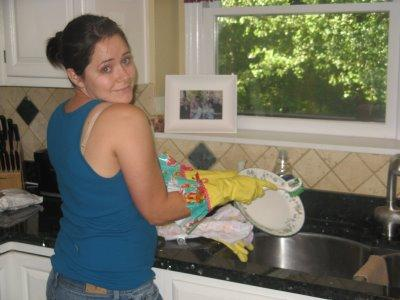person: (46, 14, 283, 299)
